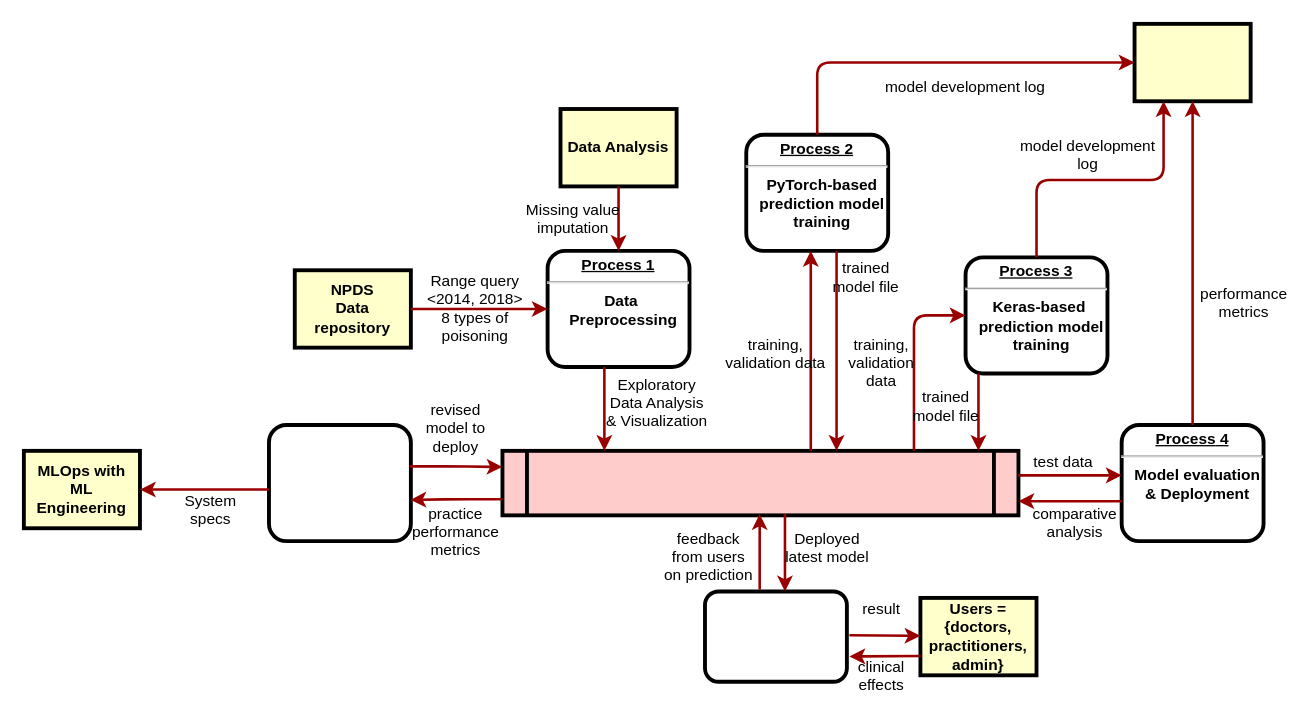
Image size: 1311x717. Some labels were removed from this diagram. Here are the shapes that lost their labels. From the top down, the centre of each, then its label:
the point at 1192,62: Data Science with Deep Learning
the point at 339,482: Process 6 Model update
the point at 760,482: DNN based Acute Poisoning Detection System
the point at 775,636: Process 5 Prediction
